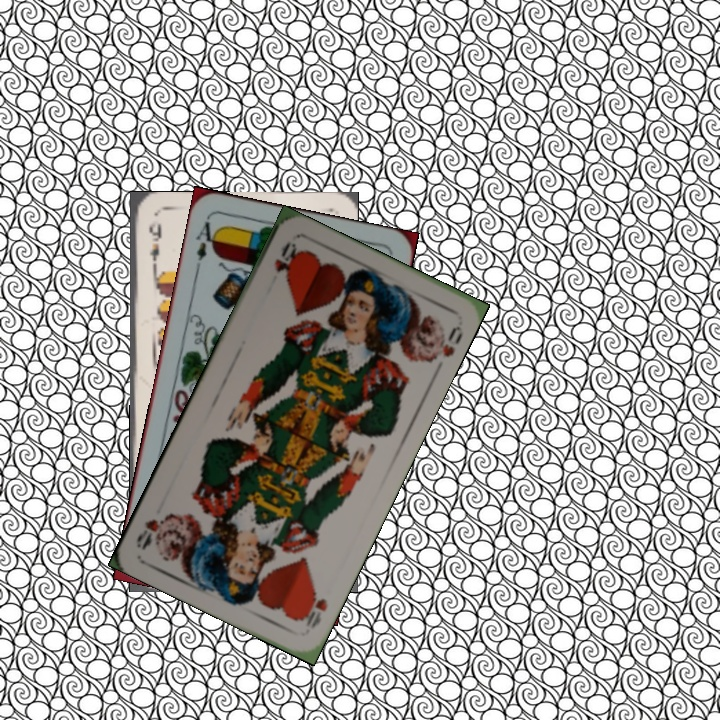E9: (145, 216, 164, 275)
EA: (191, 215, 220, 273)
HO: (296, 584, 330, 632), (270, 237, 300, 275)
